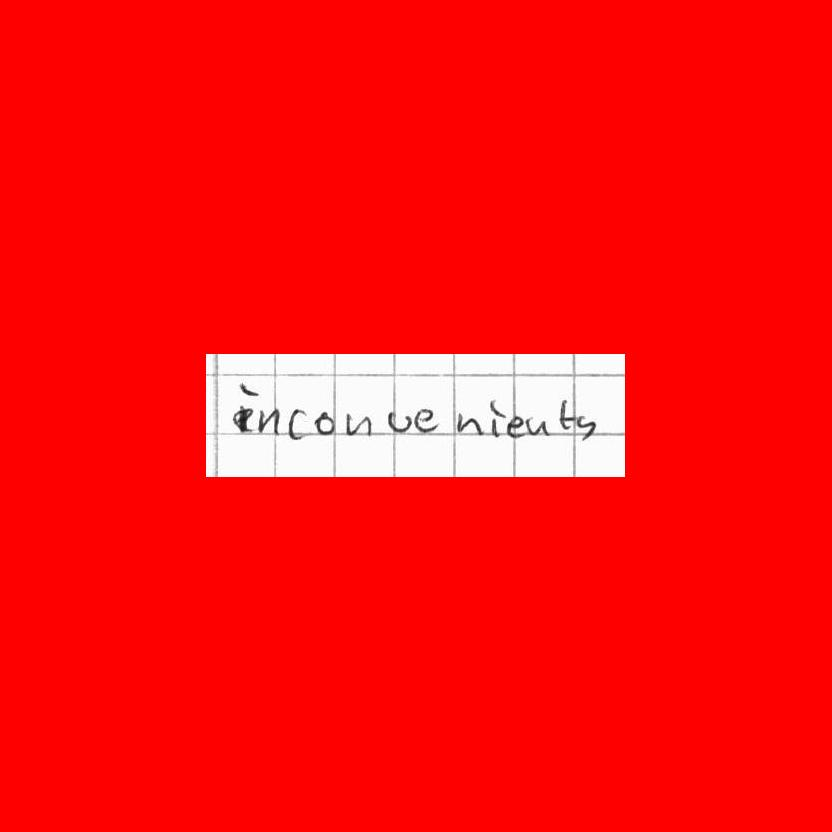Char: (235, 378, 259, 437), (287, 406, 309, 443), (412, 405, 441, 433), (344, 411, 374, 438), (455, 409, 485, 436), (383, 409, 413, 435), (488, 396, 505, 439), (257, 405, 280, 435), (557, 396, 575, 432), (313, 409, 336, 437), (525, 413, 551, 437), (575, 413, 597, 441), (506, 415, 523, 438)
